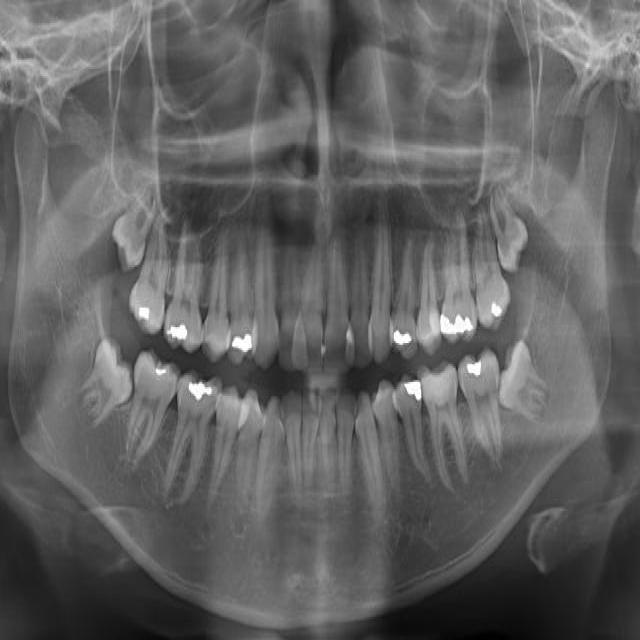dolgu: (180, 374, 219, 422), (438, 299, 476, 342), (458, 344, 492, 390), (223, 319, 257, 364), (158, 308, 193, 349), (479, 286, 509, 332), (134, 294, 158, 337), (402, 377, 428, 415), (388, 319, 418, 350), (145, 355, 172, 389)
